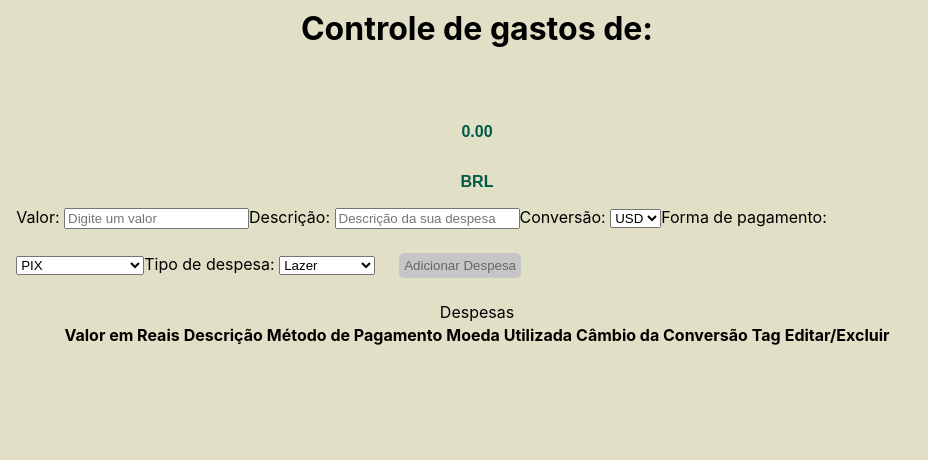
Scenario: Página de despesas › Testando botão de excluir despesa e seu funcionamento completo
Type "10" into the number field with test id "value-input".
click(156, 219); type("10")  # box [64,208,249,229]
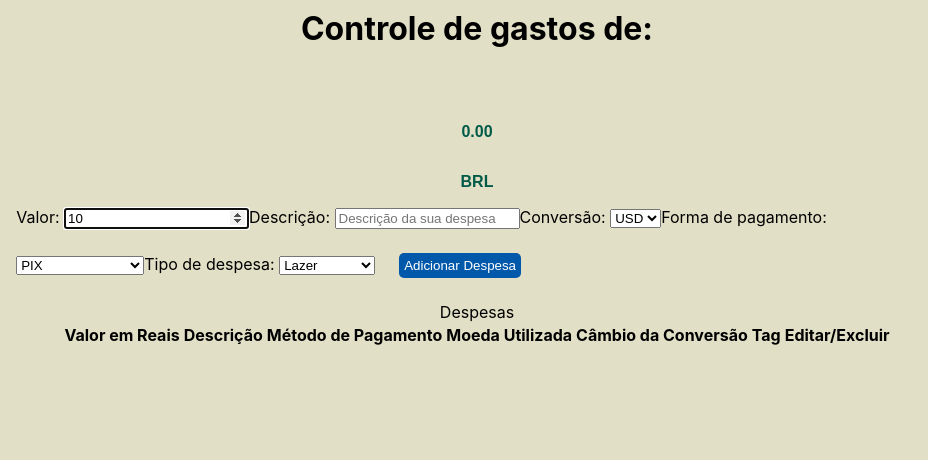
Type "abacaxi" into the field with test id "description-input".
click(427, 219); type("abacaxi")  # box [334,208,520,229]
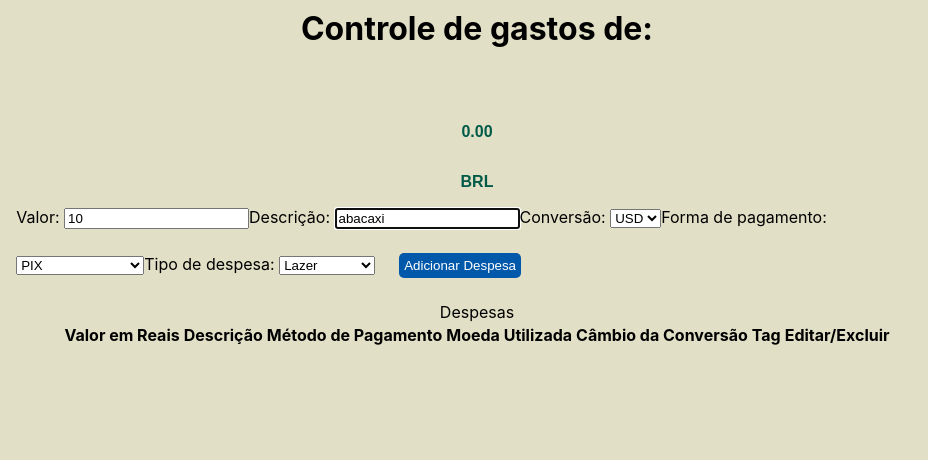
Select "CAD" in the dropdown with test id "currency-input" at (636, 219), box [610,209,661,228]
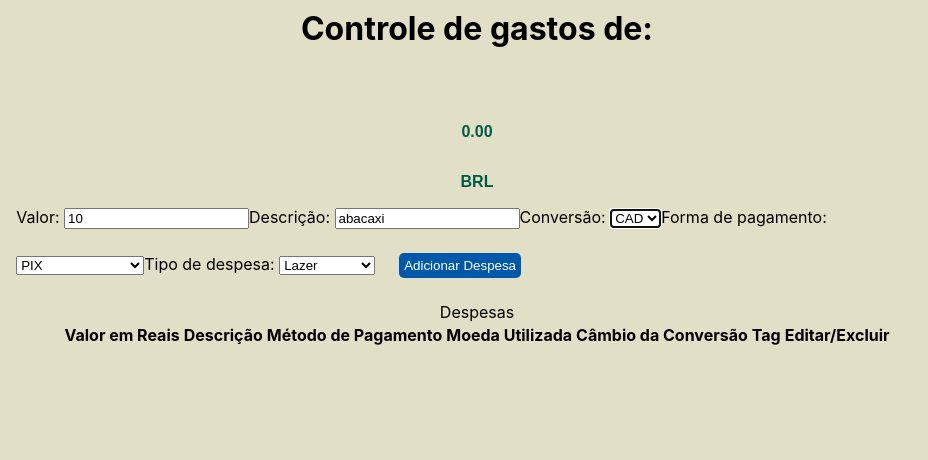
Select "Dinheiro" in the dropdown with test id "method-input" at (80, 266), box [16,256,144,275]
Select "Alimentação" in the dropdown with test id "tag-input" at (327, 266), box [279,256,375,275]
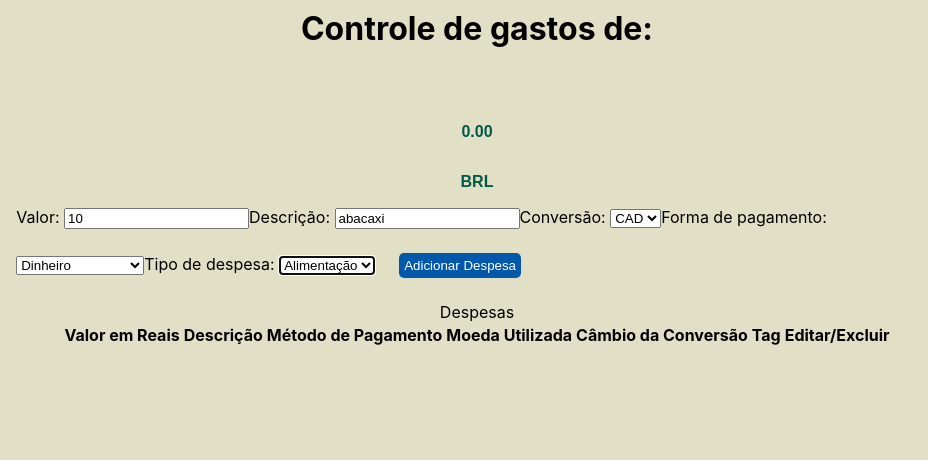
Click the button with test id "add-btn".
click(460, 266)  # box [399,253,521,278]
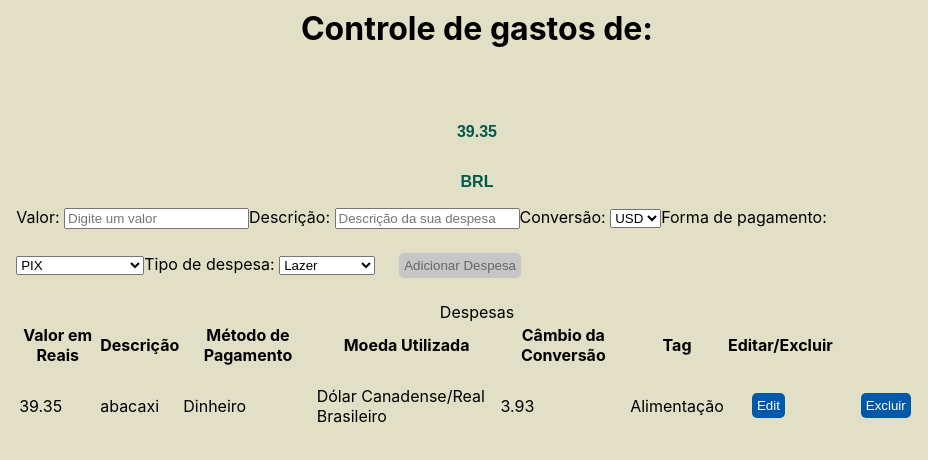
expect the number of cells is 8: met
expect the text with test id "total-header" no longer shows "0.00": met, box [457,123,497,141]
Click the button with test id "delete-btn".
click(886, 406)  # box [861,393,911,418]
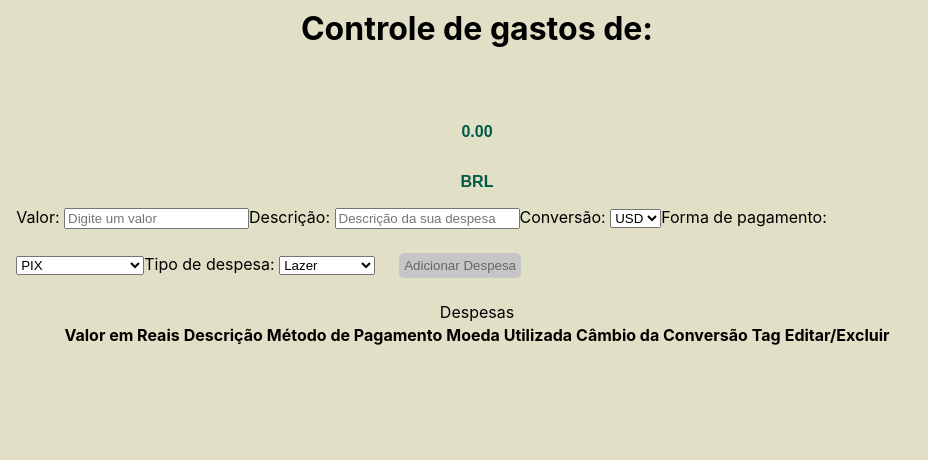
expect the cell is gone: met
expect the text with test id "total-header" reads "0.00": met, box [461,123,492,140]
